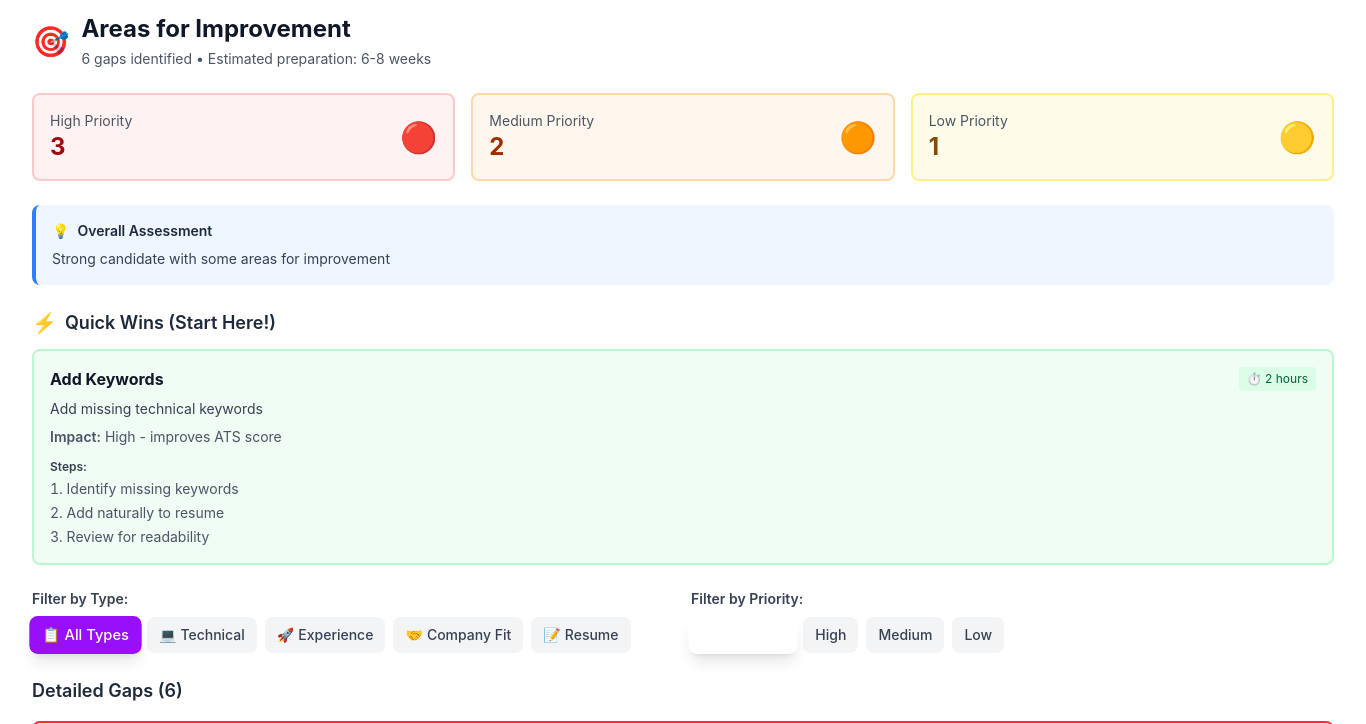
Scenario: GapsSection › combined filtering › applies both type and priority filters
What coordinates should you click on to do the following:
click the button named "💻 Technical"
I would click on:
 (202, 635)
Its box is [147,617,257,653].
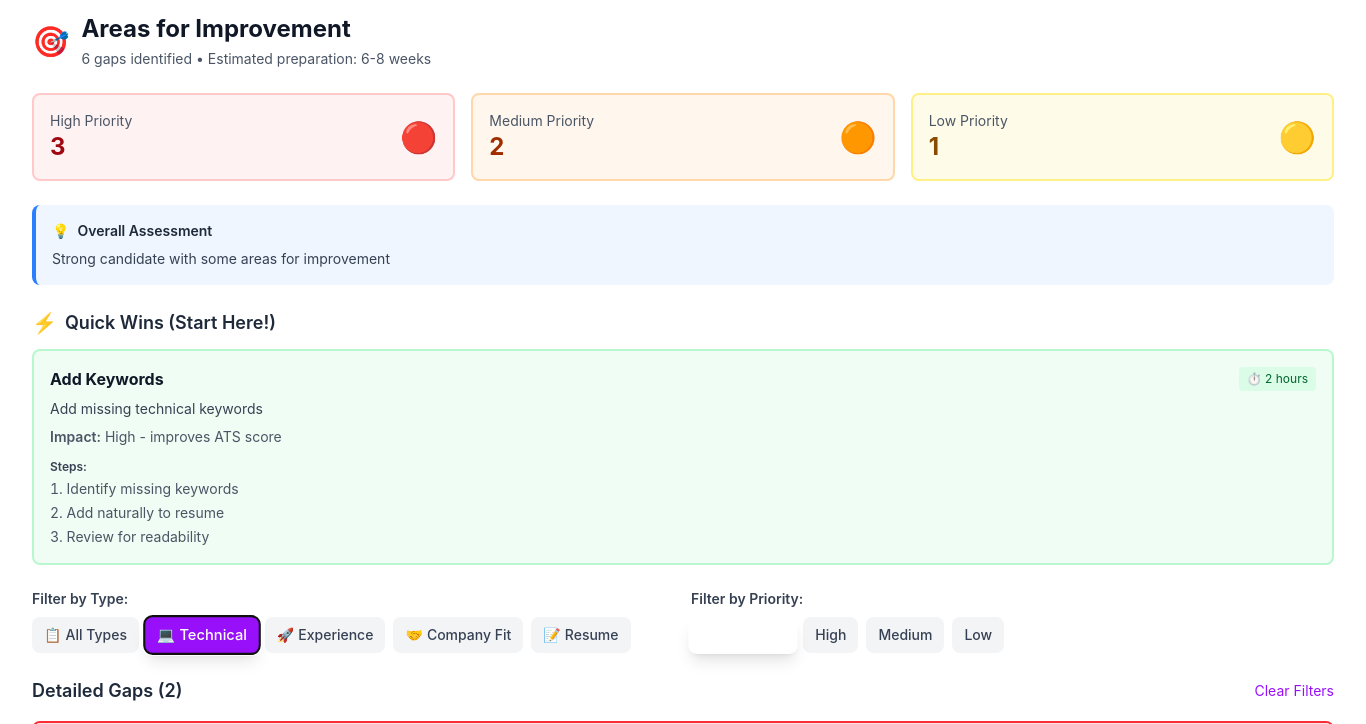
What coordinates should you click on to do the following:
click the button "High"
I would click on:
 (831, 635)
Its box is [803,617,858,653].
(page scrolled)
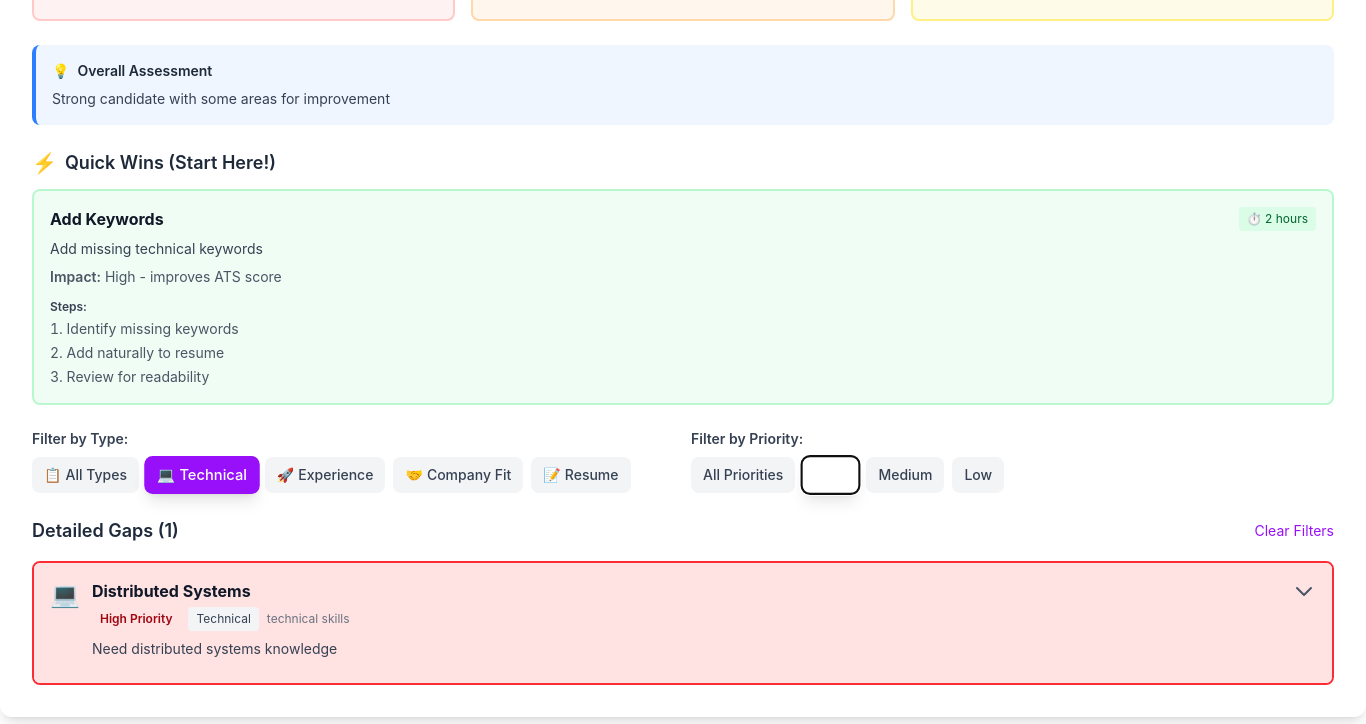
Expected: the heading "Distributed Systems" is shown, [92,581,251,601]
Expected: the heading "Detailed Gaps (1)" is shown, [32,517,179,545]
